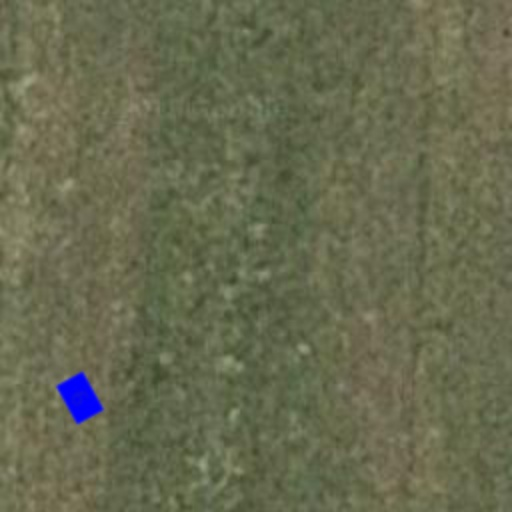rectangle: (48, 366, 112, 430)
